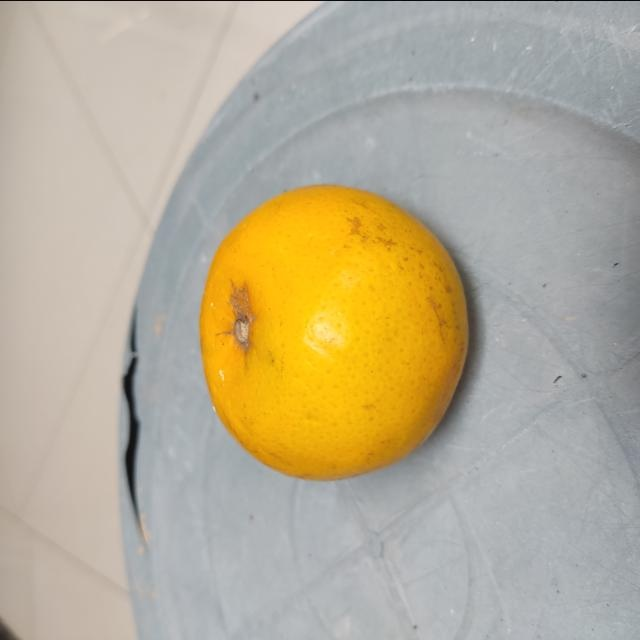agrume: (198, 182, 472, 489)
